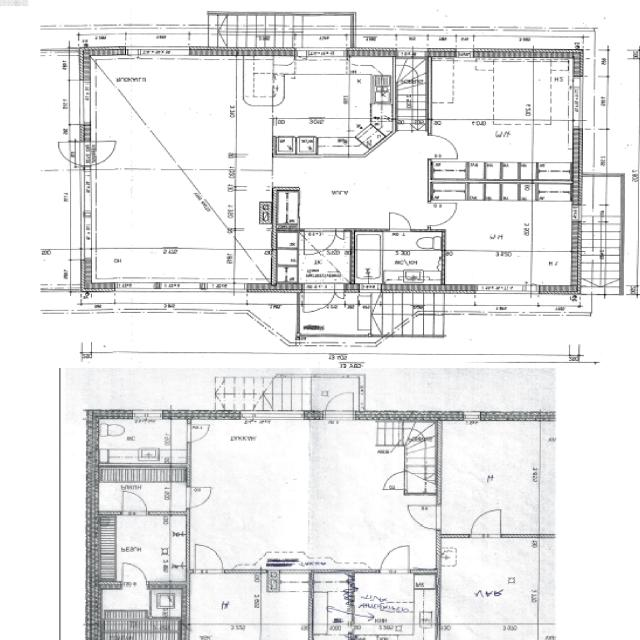door: (322, 386, 354, 422), (304, 285, 334, 320), (379, 544, 411, 575), (304, 228, 335, 260), (50, 142, 90, 166), (80, 142, 120, 166), (471, 508, 502, 538), (406, 505, 442, 529), (195, 546, 224, 575), (428, 203, 460, 226), (428, 136, 460, 159), (122, 490, 148, 517), (185, 487, 216, 509), (123, 562, 148, 589), (185, 424, 213, 443), (390, 210, 411, 233), (381, 472, 404, 490), (334, 284, 344, 302), (335, 228, 344, 242)
